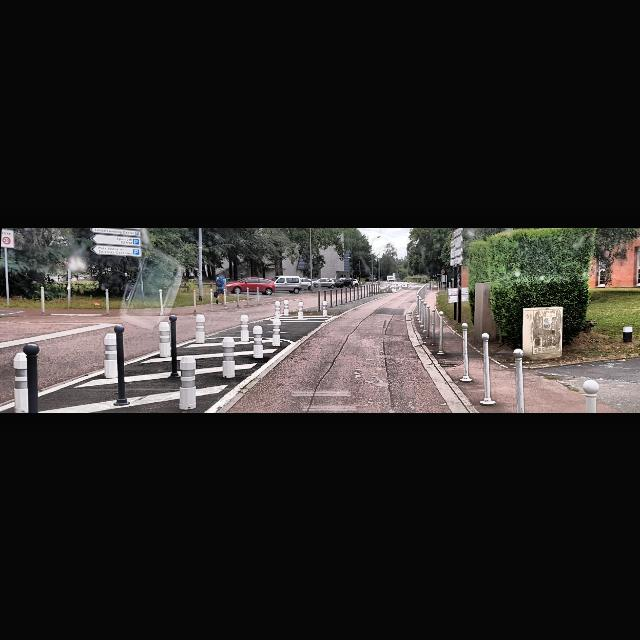speed_30: (4, 236, 10, 244)
